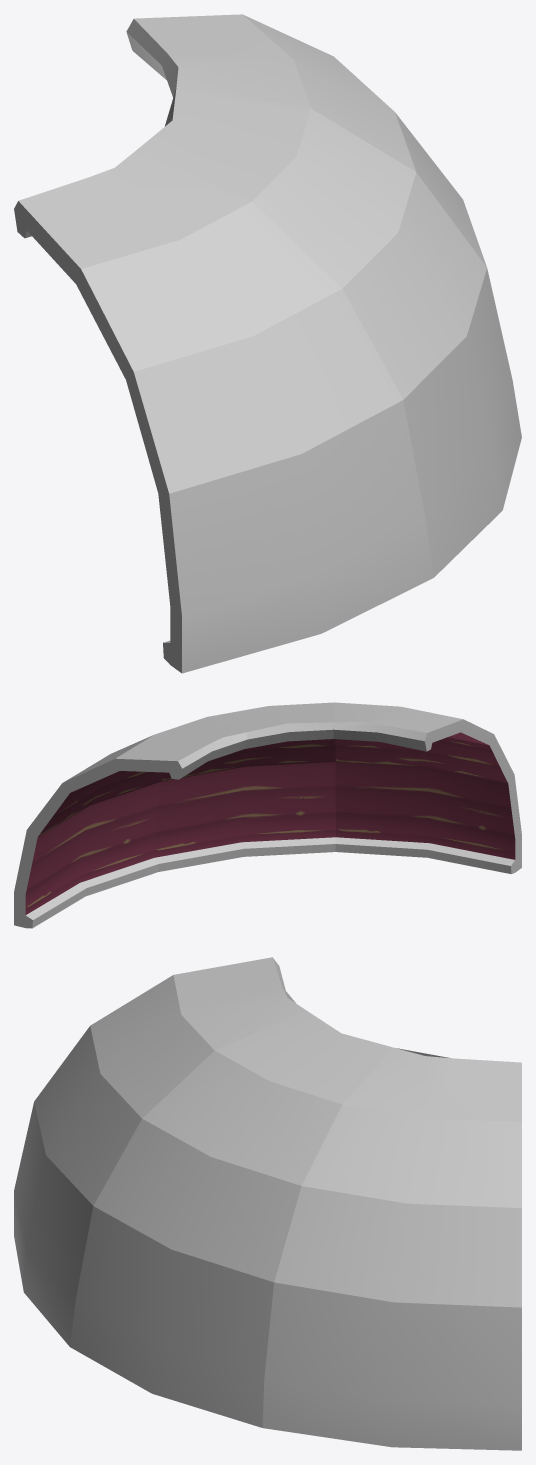
Rendered from SM_Bld_Roof_Convex_Corner_Out_03.fbx.
3 views of the same model, one above another, from view 1: azimuth 30°, elevation 25°; view 2: azimuth 150°, elevation 25°; view 3: azimuth 270°, elevation 25° (orthographic). The views are drawn at different scales.
Parts seen in each view (by area): view 1: SM_Bld_Roof_Convex_Corner_Out_03; view 2: SM_Bld_Roof_Convex_Corner_Out_03; view 3: SM_Bld_Roof_Convex_Corner_Out_03.
Part boxes in pixels (<box>): SM_Bld_Roof_Convex_Corner_Out_03: <box>14,14,521,673</box>; SM_Bld_Roof_Convex_Corner_Out_03: <box>14,702,521,928</box>; SM_Bld_Roof_Convex_Corner_Out_03: <box>14,957,521,1450</box>.
Bounding box in the file's own units: 509 × 309 × 509.
